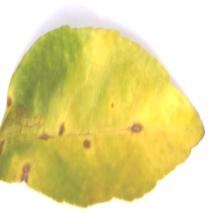canker: (31, 60, 203, 197)
